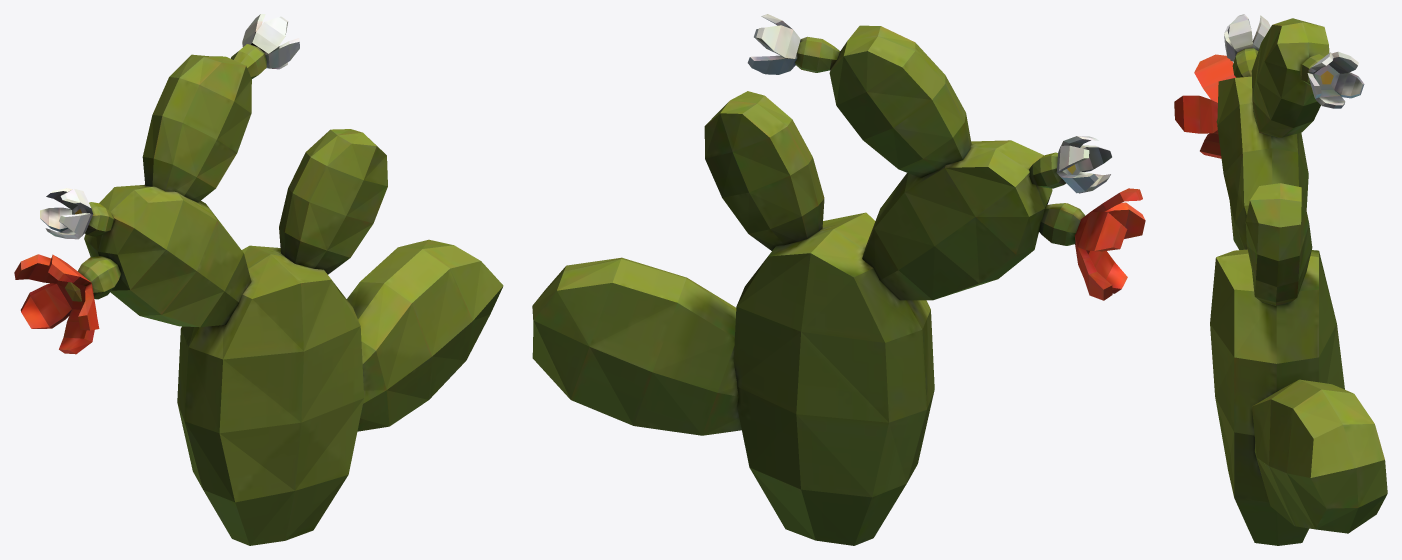
Rendered from pricklyPear.glb.
3 views of the same model, side by side, from view 1: azimuth 30°, elevation 25°; view 2: azimuth 150°, elevation 25°; view 3: azimuth 270°, elevation 25° (orthographic). The views are drawn at different scales.
Visible parts, largest first — view 1: prickly_pear_cactus; view 2: prickly_pear_cactus; view 3: prickly_pear_cactus.
Part boxes in pixels (bbox=[...]): prickly_pear_cactus: bbox=[14, 14, 503, 545]; prickly_pear_cactus: bbox=[532, 14, 1145, 545]; prickly_pear_cactus: bbox=[1174, 14, 1387, 545].
Bounding box in the file's own units: 2.43 × 2.21 × 0.8761.
1 material, 1 textured.
